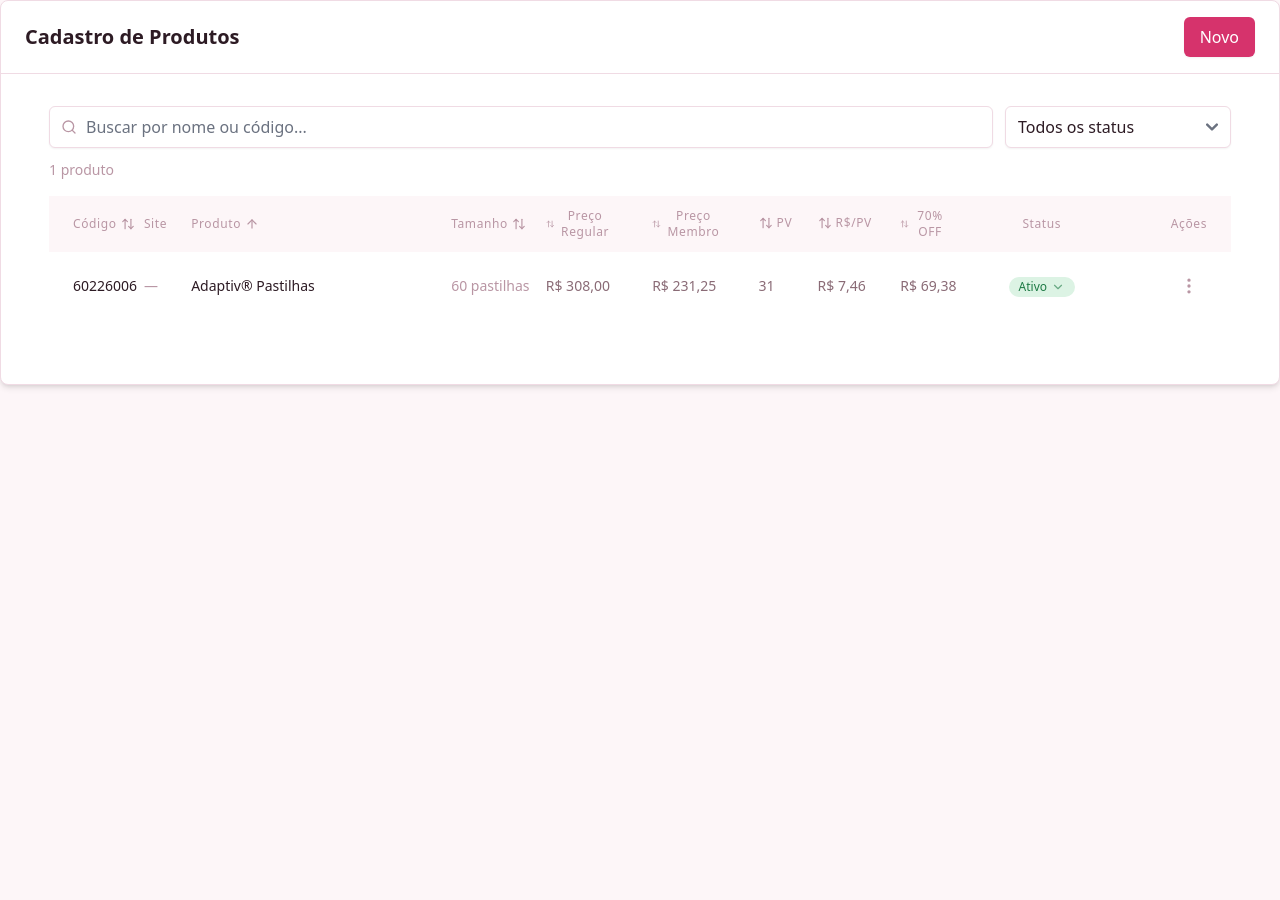
Test: Product usage modal › removes a reference after confirmation and unblocks the deletion
Expected: the button "Adaptiv® Pastilhas" is shown, [191,276,315,296]
Click the button with test id "product-actions-1-trigger" at coordinates (1189, 286), box [1171,268,1207,304]
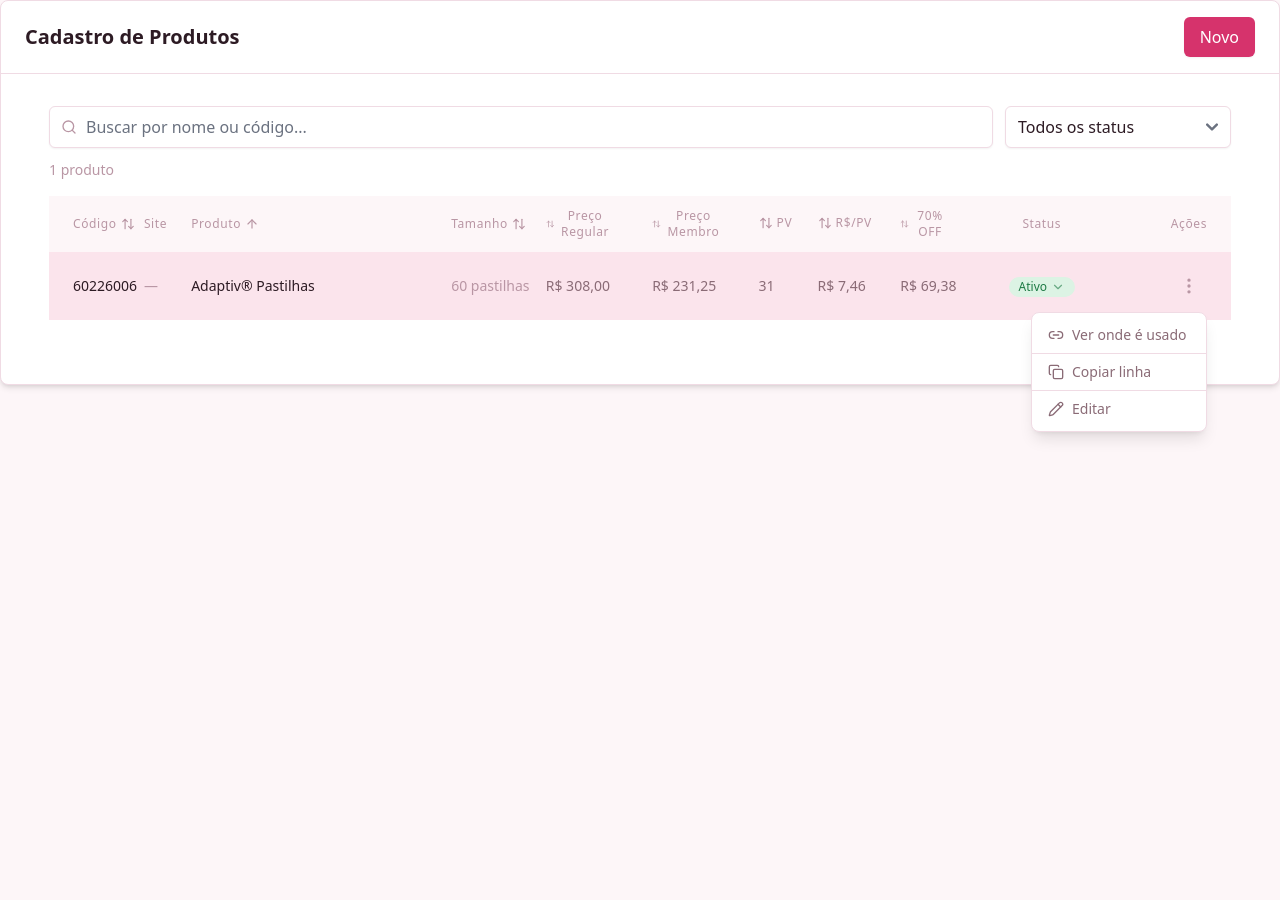
Click the menu item with test id "product-actions-1-item-Ver-onde-e-usado" at coordinates (1119, 335), box [1032,317,1206,353]
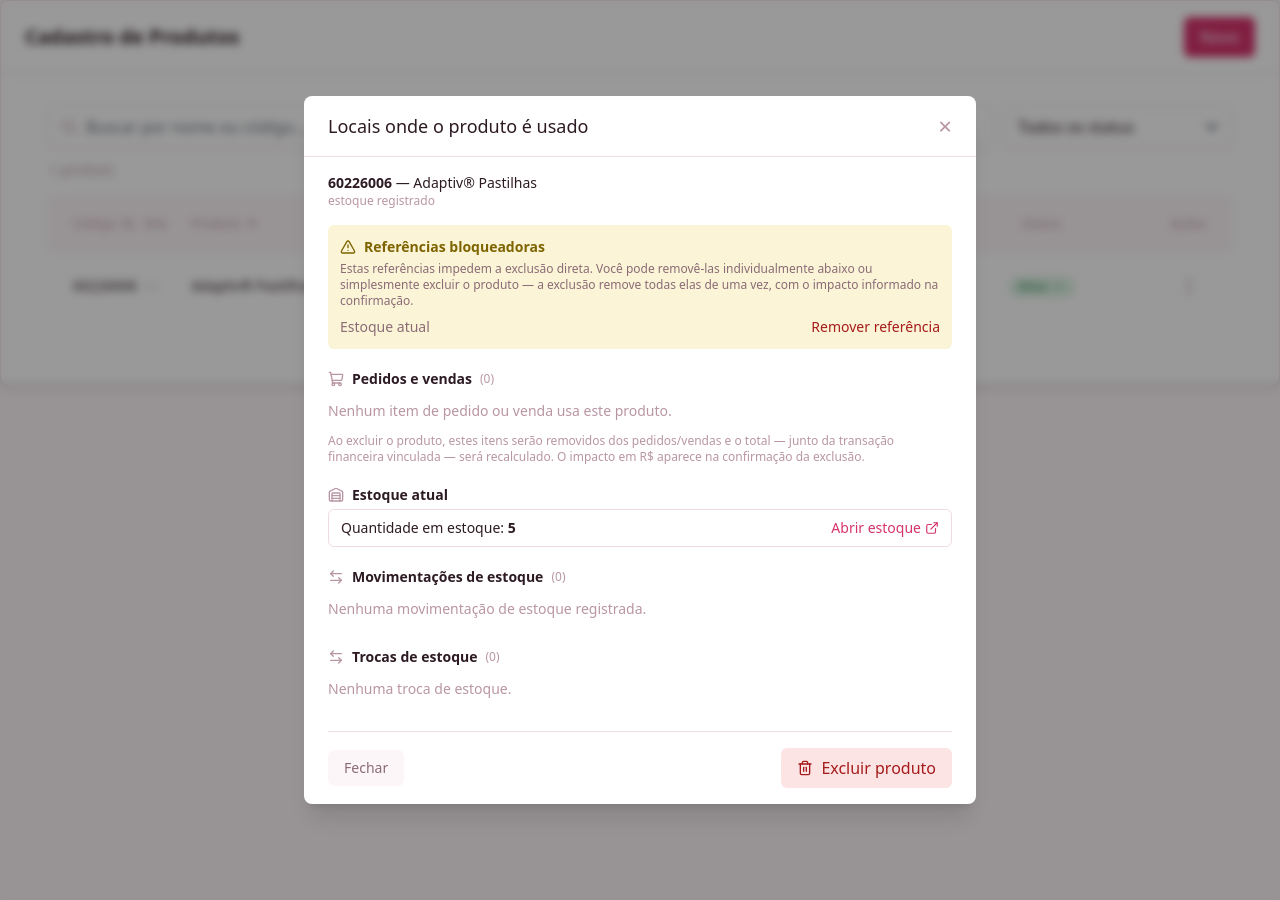
Result: the element with test id "product-usage-modal" is shown
Click the button with test id "product-usage-remove-inventory" at coordinates (876, 327), box [811,317,940,337]
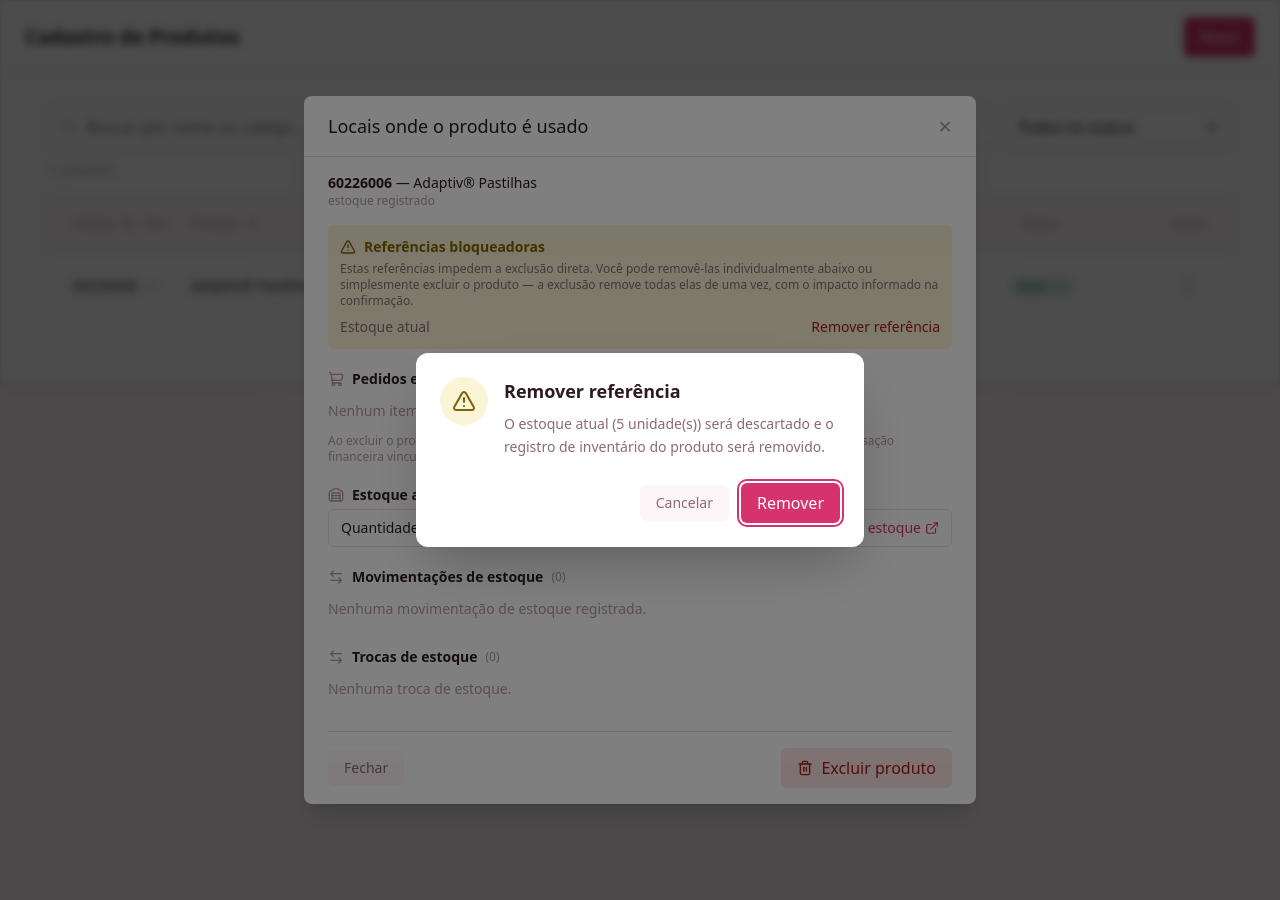
Result: the dialog is shown at [416,353,864,547]
Result: the text "O estoque atual (5 unidade(s)) será descartado" is shown at [504,414,834,456]
Click the button "Remover" at coordinates (790, 503), box [741,483,840,523]
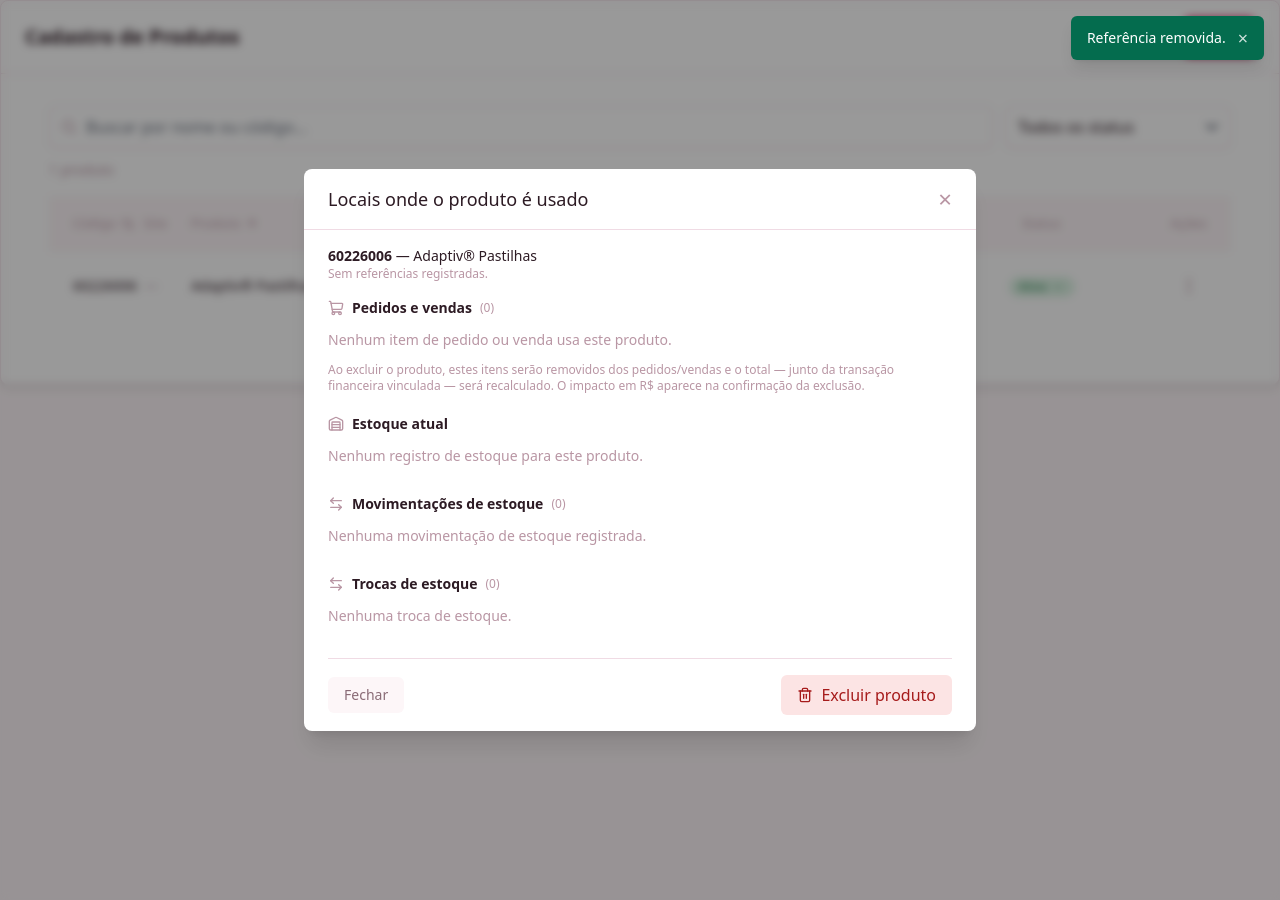
Result: the button with test id "product-usage-delete" is enabled at [781,675,952,715]
Result: the element with test id "product-usage-blockers" is gone
